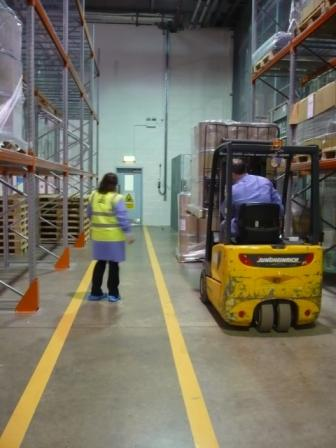noepi: (83, 171, 133, 302), (222, 150, 288, 241)
